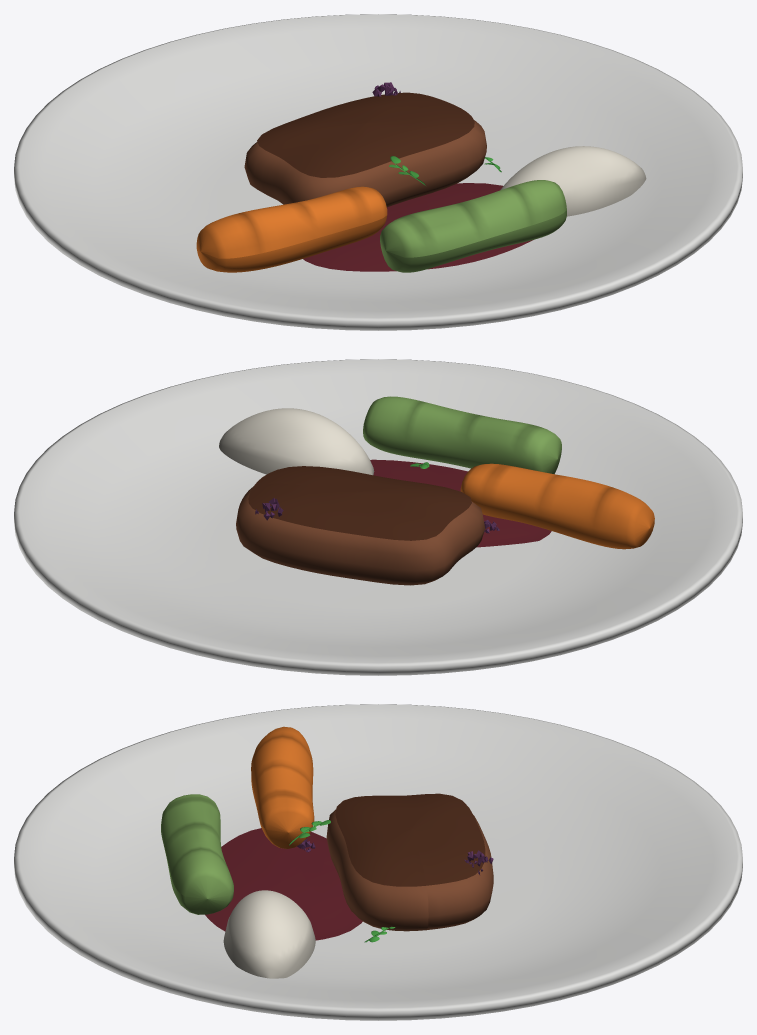
The model's file is classic-centred.gltf.
The picture shows the model from 3 angles, top to bottom: view 1: azimuth 30°, elevation 25°; view 2: azimuth 150°, elevation 25°; view 3: azimuth 270°, elevation 25°; orthographic projection.
Visible parts, largest first — view 1: plate, Seared duck breast crust, Confit carrot, Charred baby leek, Seared duck breast, Celeriac puree, sauce-pooled; view 2: plate, Seared duck breast crust, Seared duck breast, Confit carrot, Charred baby leek, Celeriac puree, sauce-pooled; view 3: plate, Seared duck breast crust, sauce-pooled, Seared duck breast, Charred baby leek, Celeriac puree, Confit carrot.
Boxes of the visible parts, x1=… form: plate: x1=14, y1=14, x2=742, y2=330; Seared duck breast crust: x1=257, y1=92, x2=474, y2=177; Confit carrot: x1=196, y1=186, x2=387, y2=272; Charred baby leek: x1=380, y1=180, x2=566, y2=272; Seared duck breast: x1=244, y1=120, x2=486, y2=207; Celeriac puree: x1=500, y1=146, x2=646, y2=216; sauce-pooled: x1=303, y1=183, x2=532, y2=271; plate: x1=14, y1=359, x2=742, y2=675; Seared duck breast crust: x1=248, y1=466, x2=471, y2=540; Seared duck breast: x1=236, y1=486, x2=485, y2=585; Confit carrot: x1=460, y1=463, x2=654, y2=549; Charred baby leek: x1=363, y1=396, x2=561, y2=474; Celeriac puree: x1=219, y1=408, x2=374, y2=475; sauce-pooled: x1=370, y1=459, x2=551, y2=547; plate: x1=14, y1=704, x2=742, y2=1020; Seared duck breast crust: x1=335, y1=793, x2=485, y2=886; sauce-pooled: x1=205, y1=828, x2=362, y2=940; Seared duck breast: x1=326, y1=809, x2=493, y2=931; Charred baby leek: x1=161, y1=794, x2=233, y2=914; Celeriac puree: x1=223, y1=890, x2=315, y2=978; Confit carrot: x1=251, y1=726, x2=314, y2=848.
Size of the model in its own units: 2 by 0.221 by 2.
